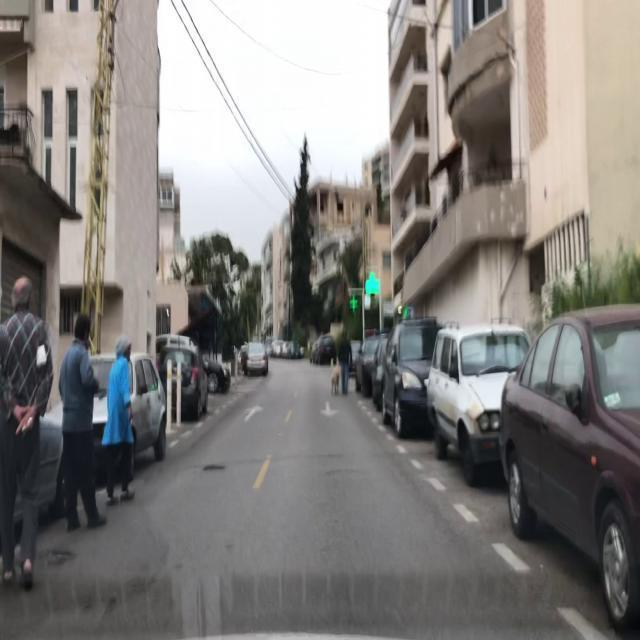pothole: (203, 463, 226, 473)
